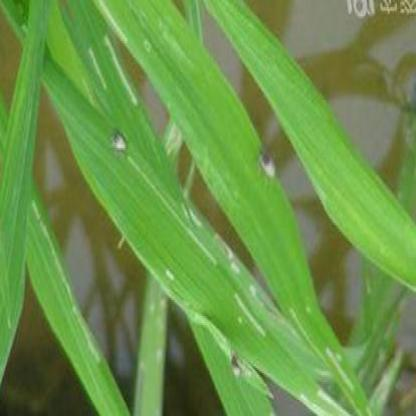rice-bug: (259, 151, 277, 178), (230, 353, 247, 378), (111, 127, 125, 152)
